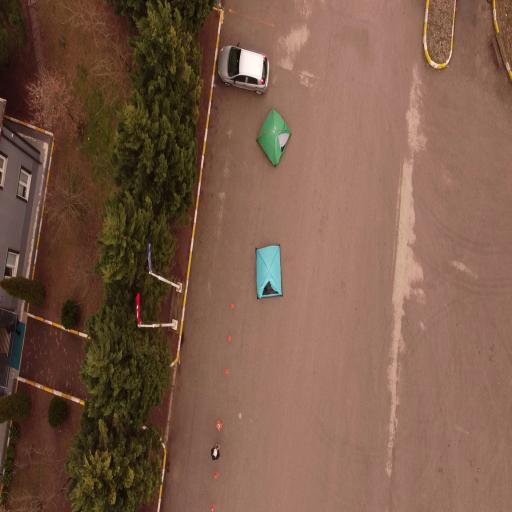tent: (255, 106, 293, 170), (253, 241, 285, 301)
